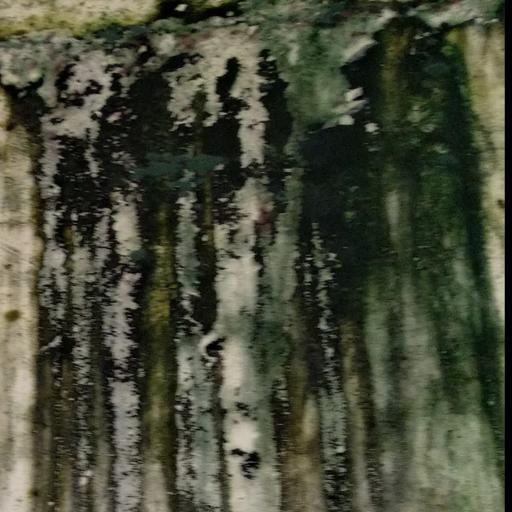algae: (18, 25, 512, 512)
